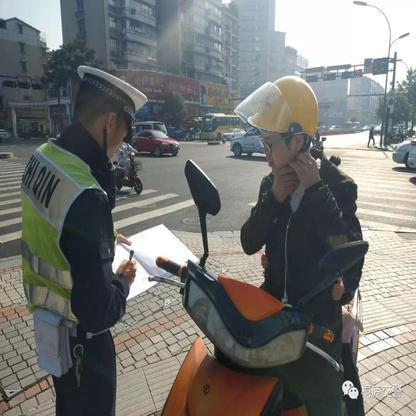target: (158, 74, 365, 412)
